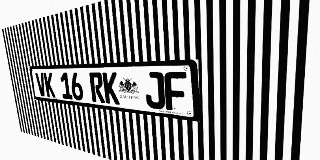1: (59, 72, 73, 100)
6: (69, 72, 84, 101)
F: (164, 72, 187, 112)
J: (144, 72, 165, 110)
K: (102, 72, 120, 105), (43, 73, 55, 98)
R: (89, 72, 105, 103)
V: (35, 73, 47, 97)
